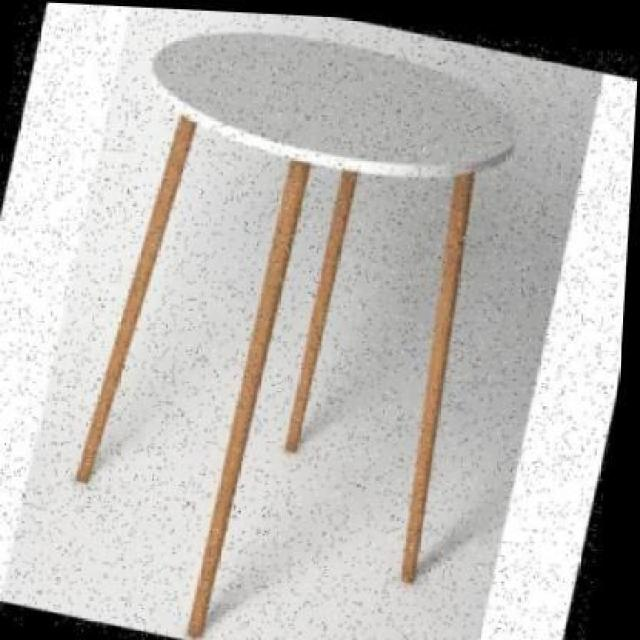tables: (74, 29, 517, 636)
